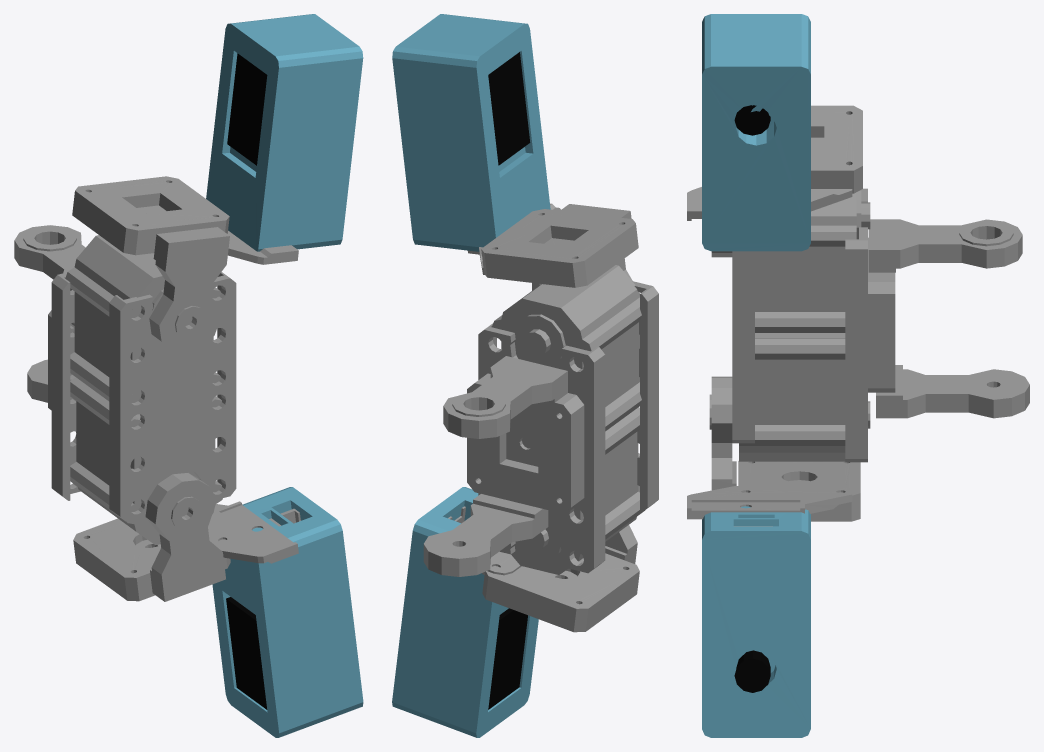
The model's file is head-neck-p.glb.
3 views of the same model, side by side, from view 1: azimuth 30°, elevation 25°; view 2: azimuth 150°, elevation 25°; view 3: azimuth 270°, elevation 25° (orthographic).
Size of the model in its own units: 0.0599 by 0.1688 by 0.0757.
